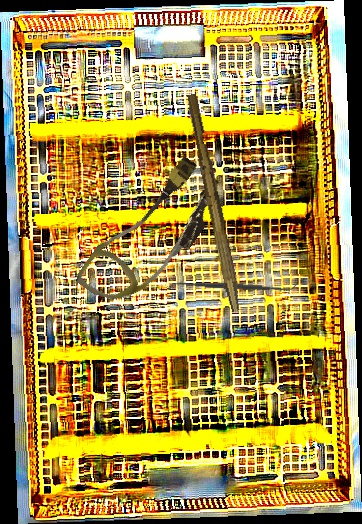Cannula: (73, 144, 232, 325)
Scalpel Handle: (181, 92, 248, 313)
Spatula Surgical: (169, 275, 298, 297)
